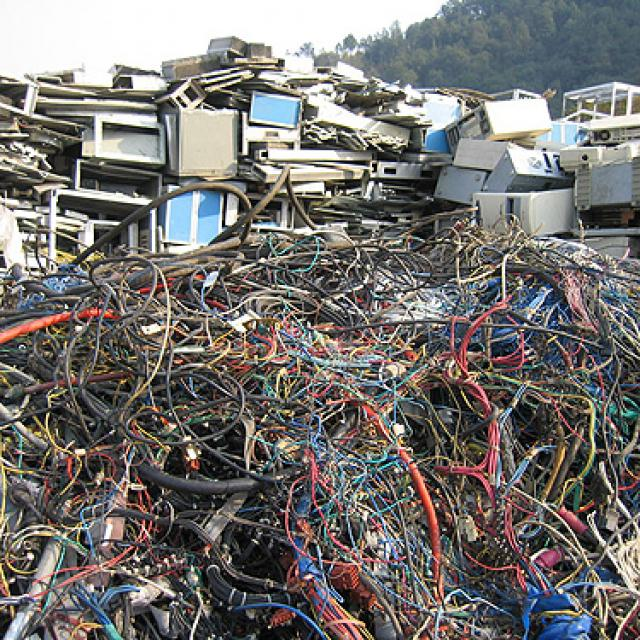hazard: (0, 69, 640, 631)
